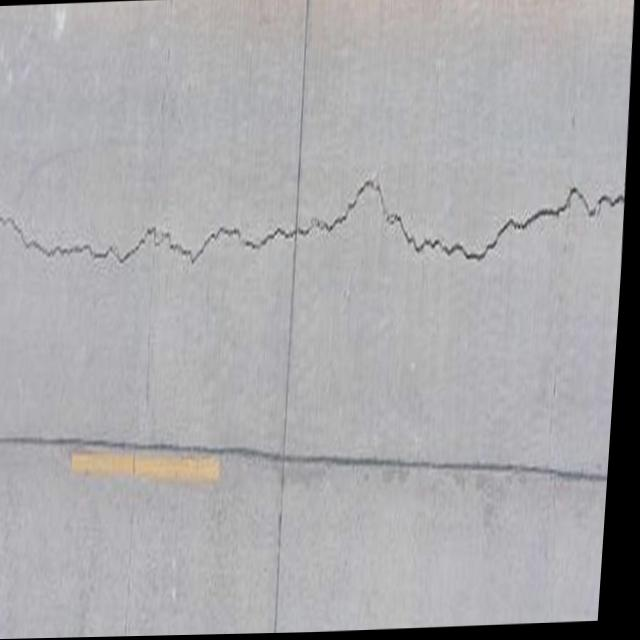Crack: (0, 132, 633, 322)
